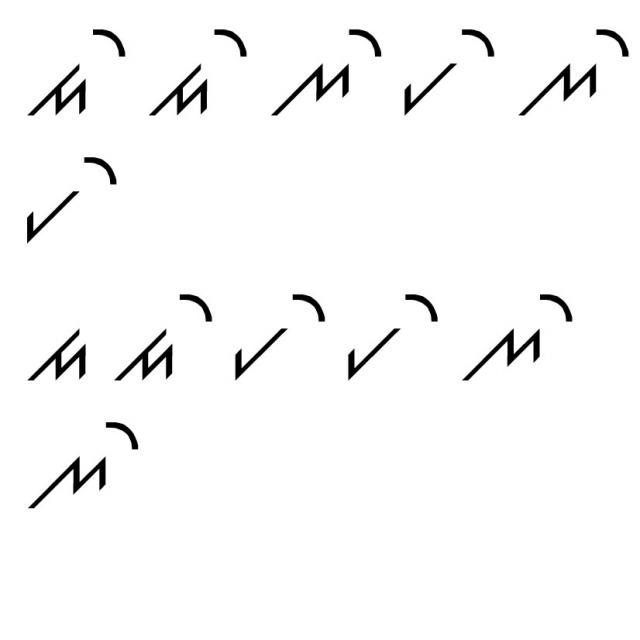dar: (23, 321, 90, 387)
day: (111, 280, 215, 393), (19, 22, 130, 122), (145, 23, 252, 123)
nay: (459, 288, 575, 394), (30, 412, 143, 512), (514, 24, 630, 120), (272, 28, 383, 120)
pay: (231, 279, 328, 386), (340, 287, 441, 386), (398, 19, 496, 119), (18, 149, 118, 245)
